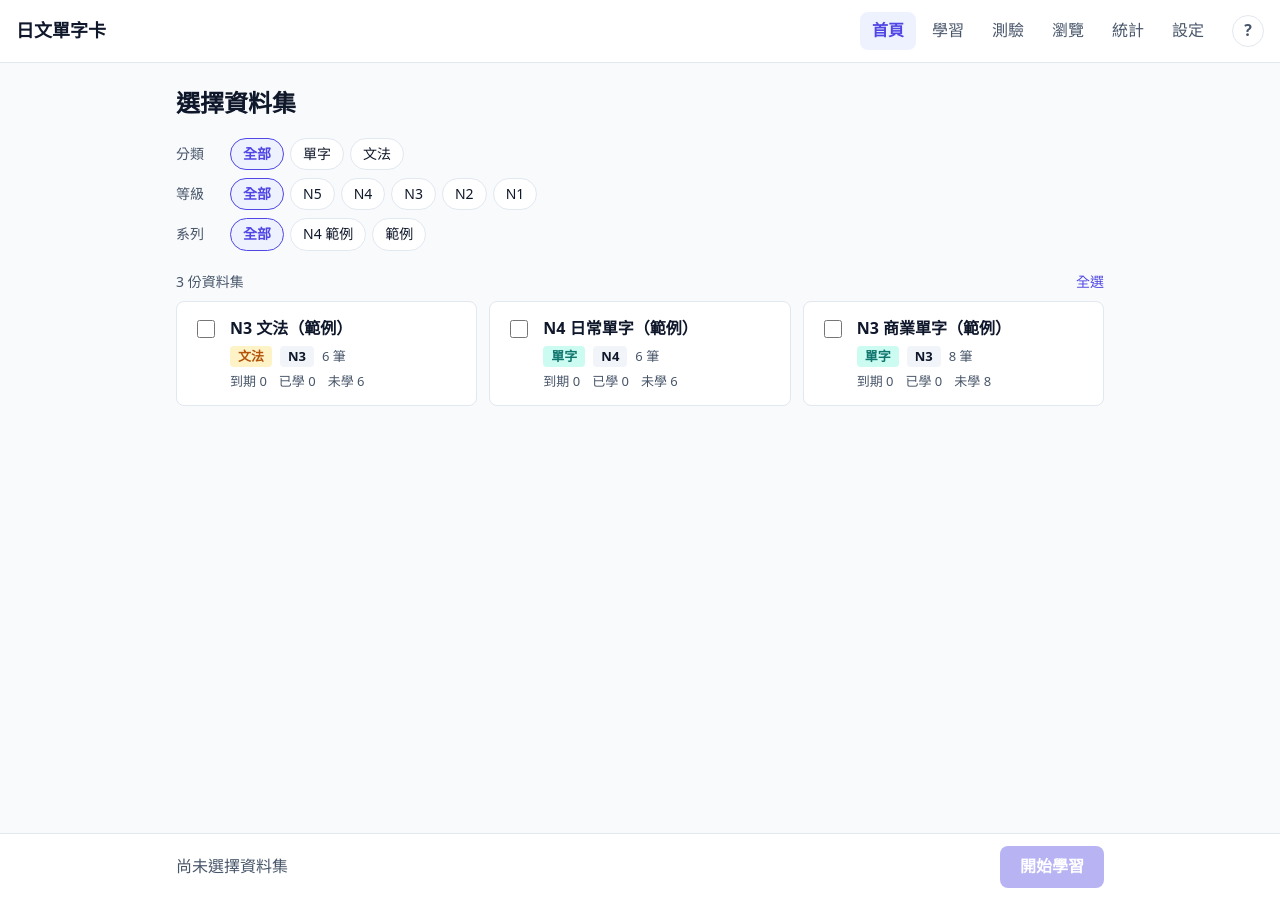
Test: App › filters by series and selects a whole series at once
Click the radio button with class "chip" showing "範例" at (399, 235), box [372,218,426,251]
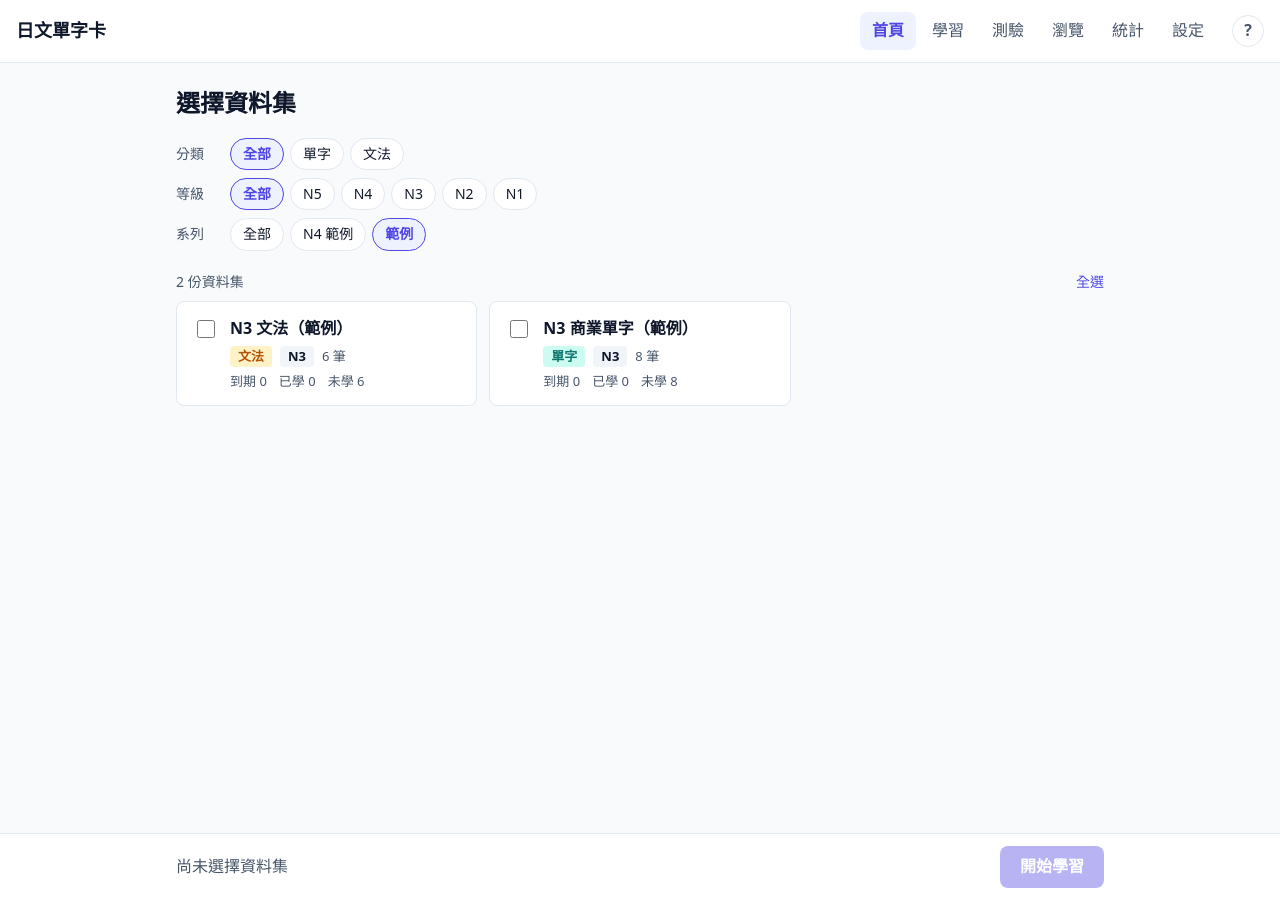
Click the button "全選" at (1090, 282), box [1076,271,1104,293]
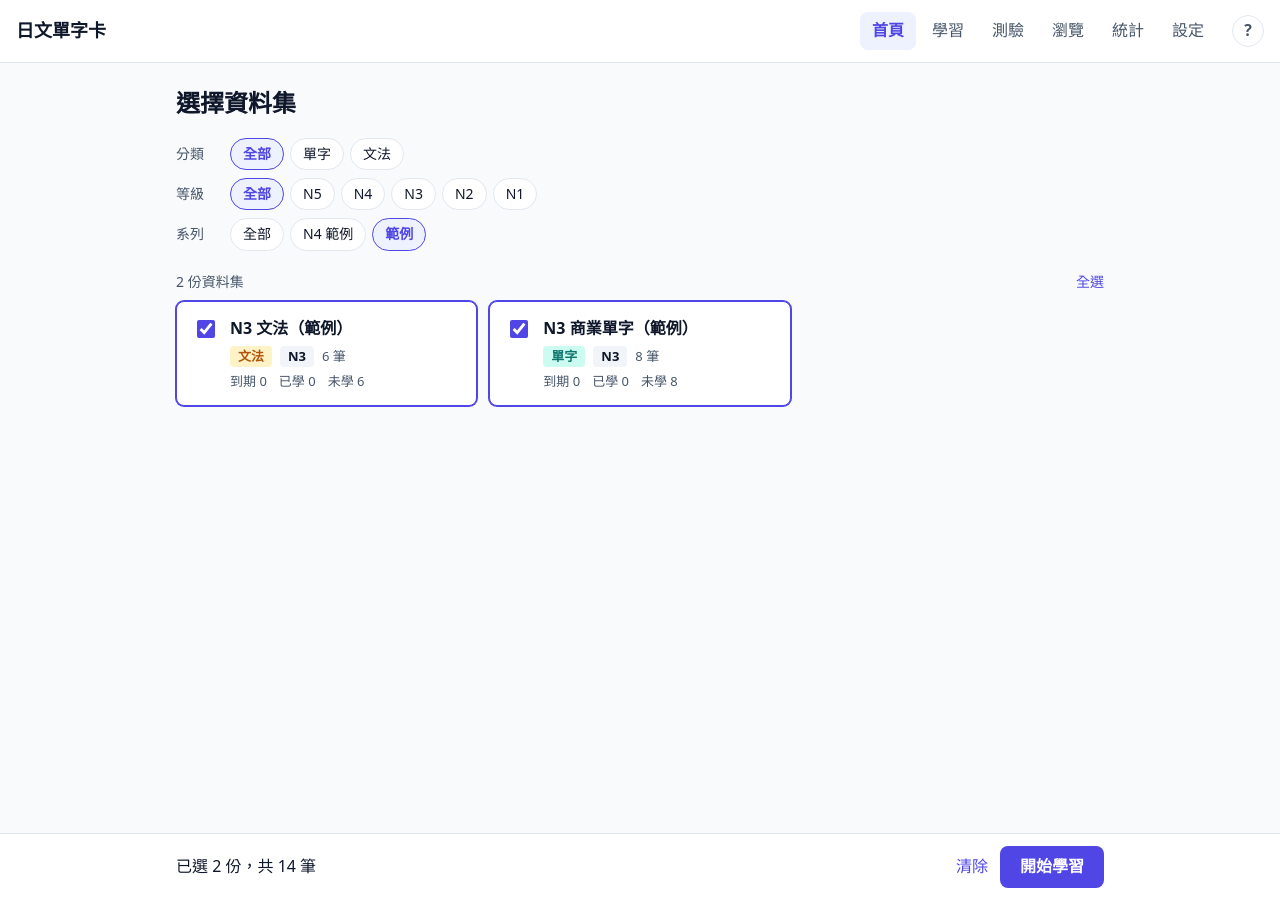
Check: the element with class "selection-bar" shows "已選 2 份，共 14 筆", box [176,855,316,877]
切到 N4 後只剩一個系列：系列篩選回到「全部」，而且這排篩選會隱藏
Click the radio button with class "chip" showing "N4" at (363, 194), box [341,178,385,210]
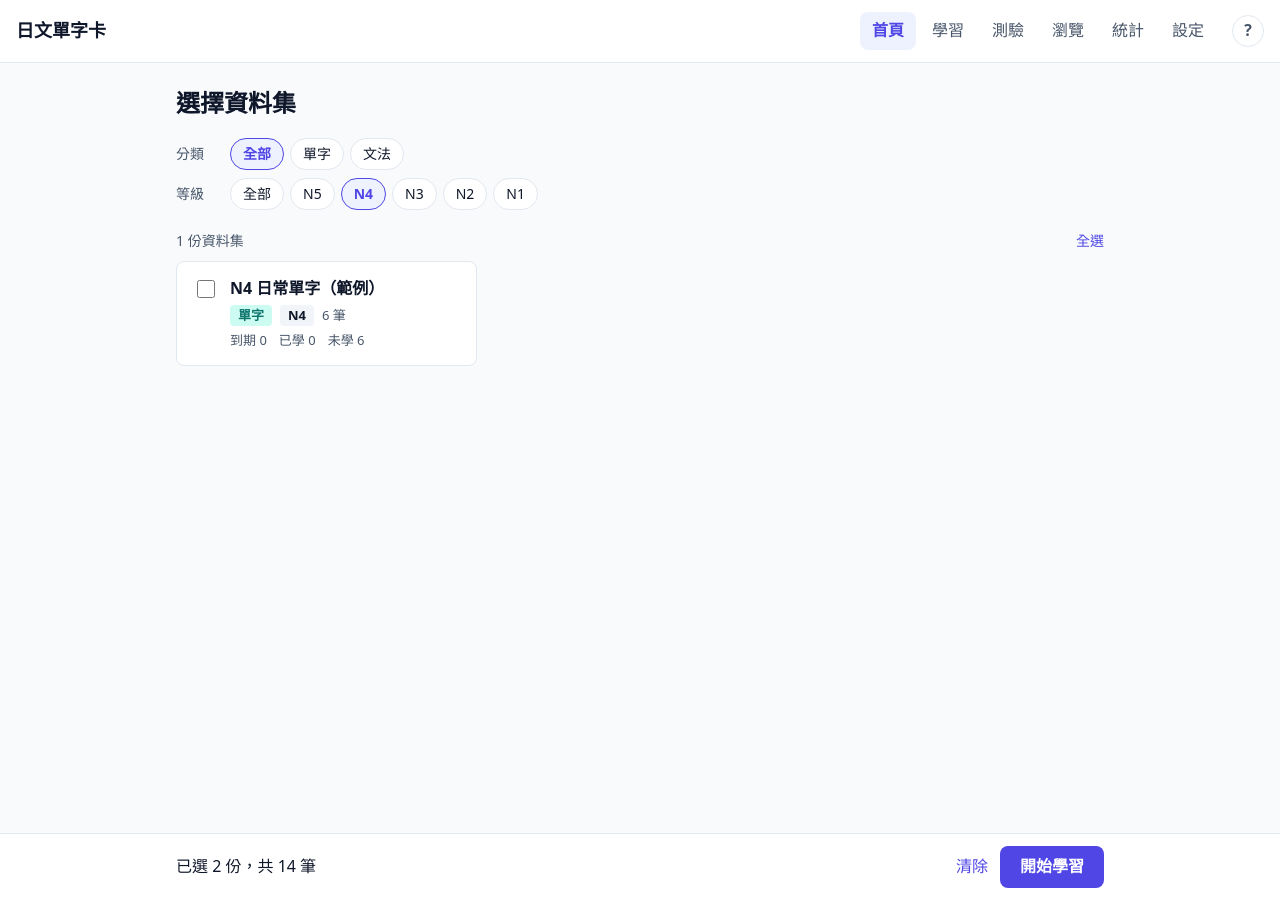
Check: the number of labels with class "dataset-card" is 1, box [176,261,477,366]
